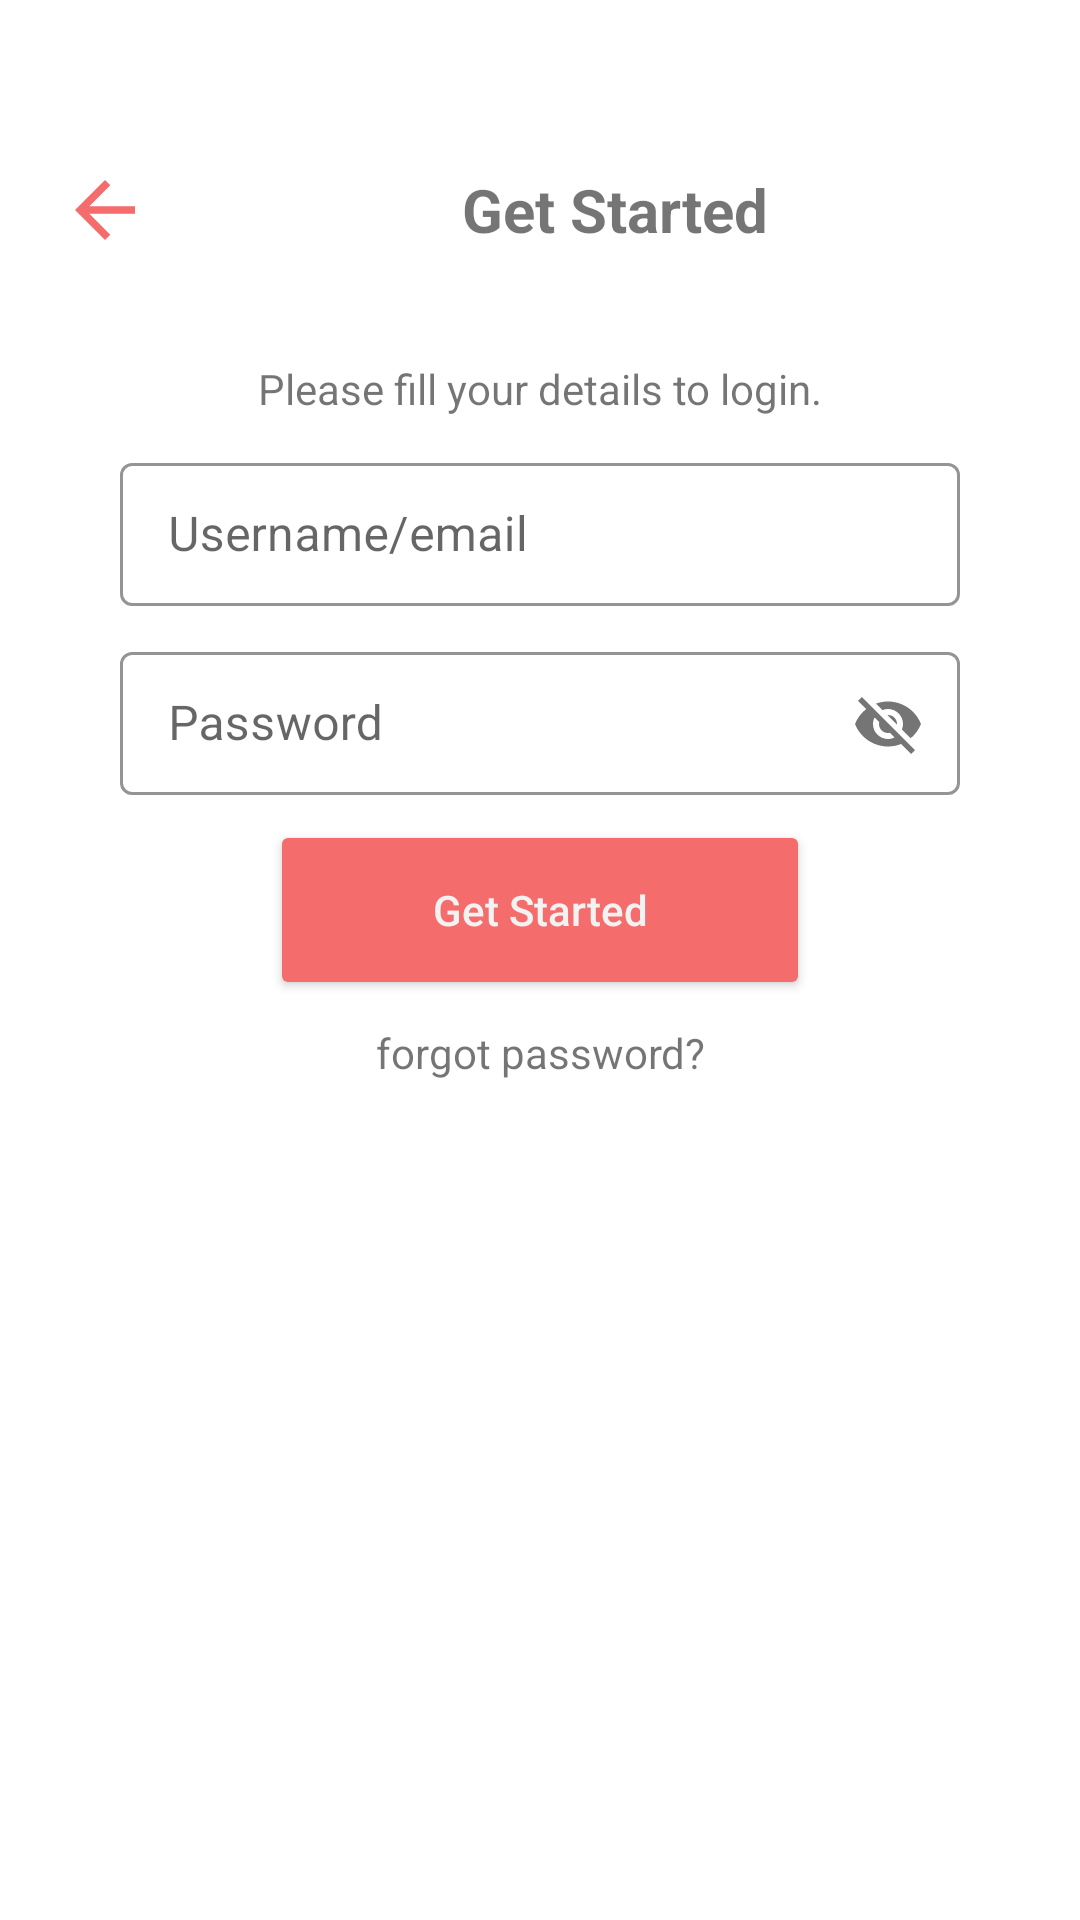

Named icons in this screenshot (1080px x 1920px) and their centers, (x,y):
arrow back: (105,210)
